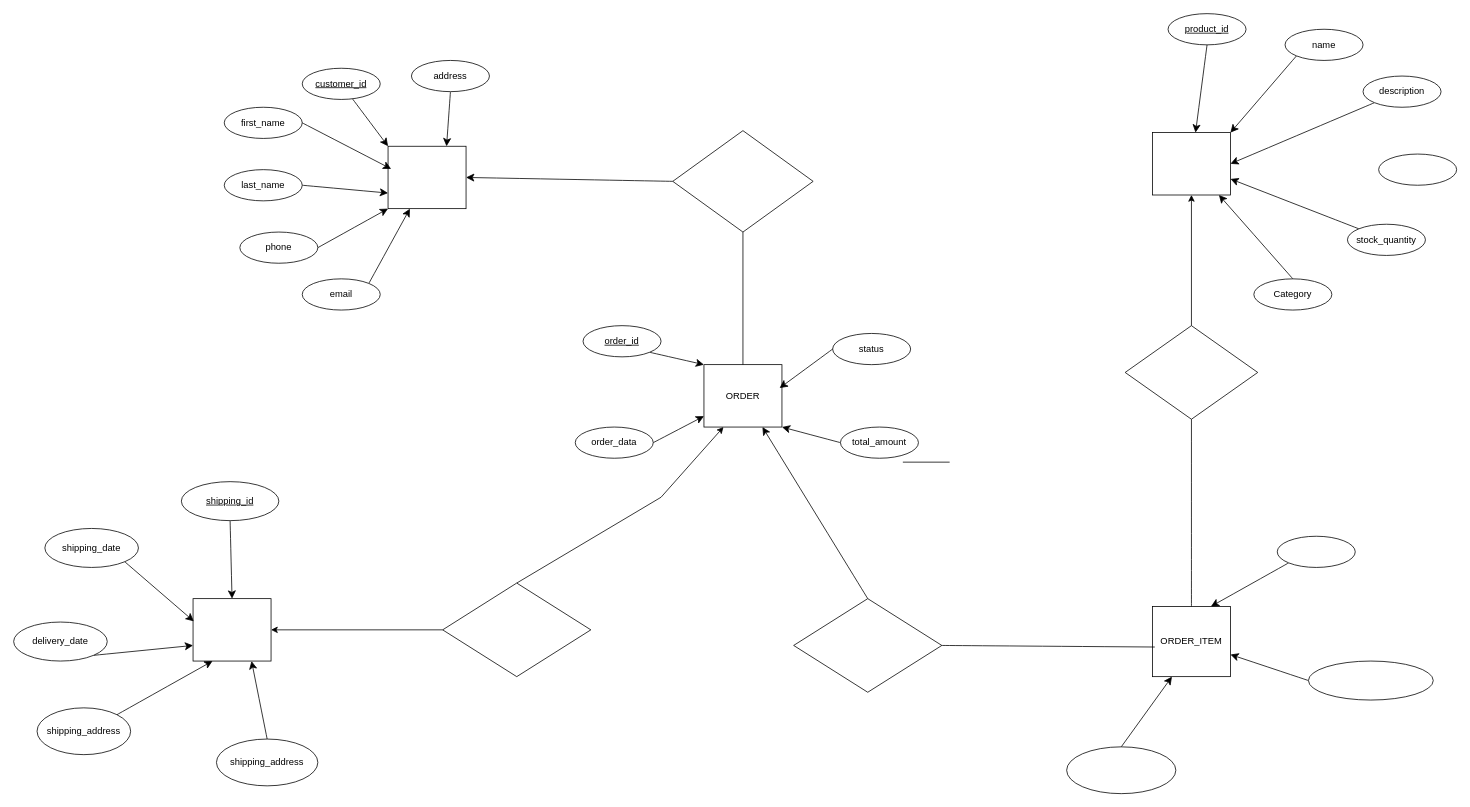
Some shapes in this 1470 by 807 pixel diagram are drawn without their labels. The centre of each missing label's shape, as x and y in pixels:
"CONTAINS" goes at (x=867, y=645).
"customer" goes at (x=426, y=177).
"HAS" goes at (x=516, y=629).
"INCLUDES" goes at (x=1191, y=372).
"order_item_id" goes at (x=1121, y=770).
"PLACES" goes at (x=742, y=181).
"price" goes at (x=1417, y=169).
"price_at_purchase" goes at (x=1370, y=680).
"product" goes at (x=1191, y=163).
"quantity" goes at (x=1315, y=551).
"SHIPPING" goes at (x=231, y=629).
